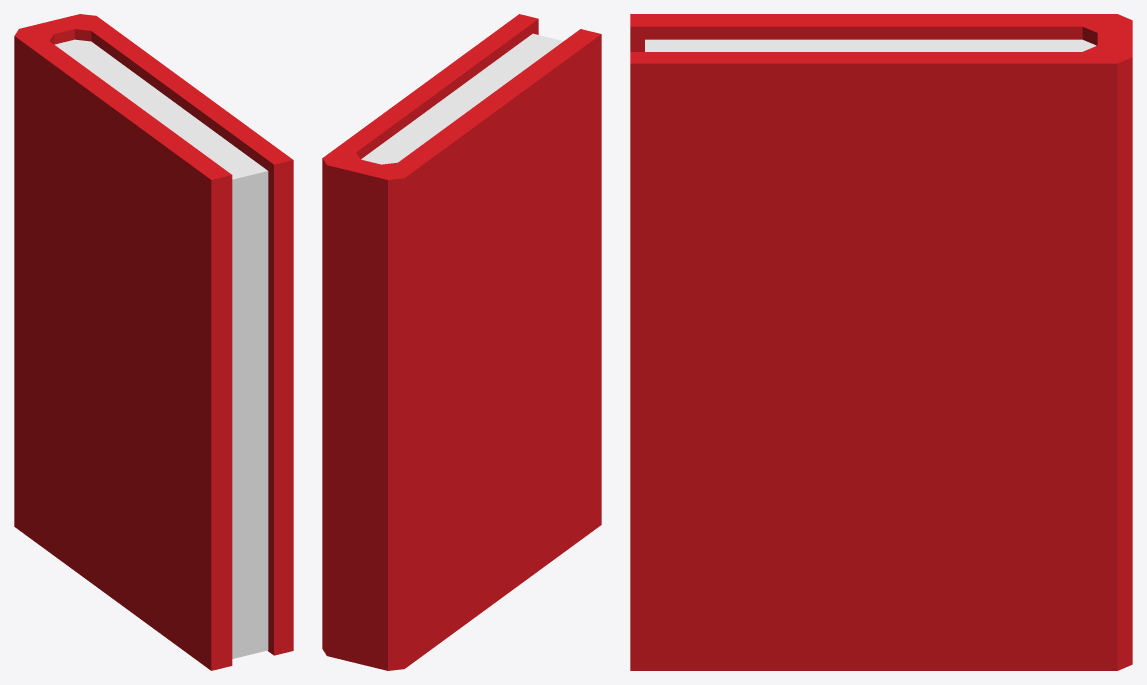
File: Libro01.fbx
3 views of the same model, side by side, from view 1: azimuth 30°, elevation 25°; view 2: azimuth 150°, elevation 25°; view 3: azimuth 270°, elevation 25° (orthographic). The views are drawn at different scales.
Visible parts, largest first — view 1: Libro01; view 2: Libro01; view 3: Libro01.
Part boxes in pixels (<box>): Libro01: <box>14,14,293,670</box>; Libro01: <box>322,14,601,670</box>; Libro01: <box>630,14,1132,670</box>.
Bounding box in the file's own units: 5.58 × 31.89 × 23.89.
